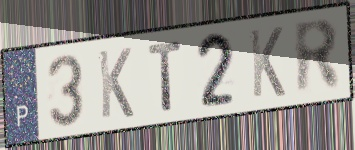2: (193, 29, 241, 114)
3: (44, 52, 85, 131)
K: (96, 45, 136, 122), (247, 24, 287, 101)
R: (291, 16, 344, 99)
T: (146, 38, 185, 114)
